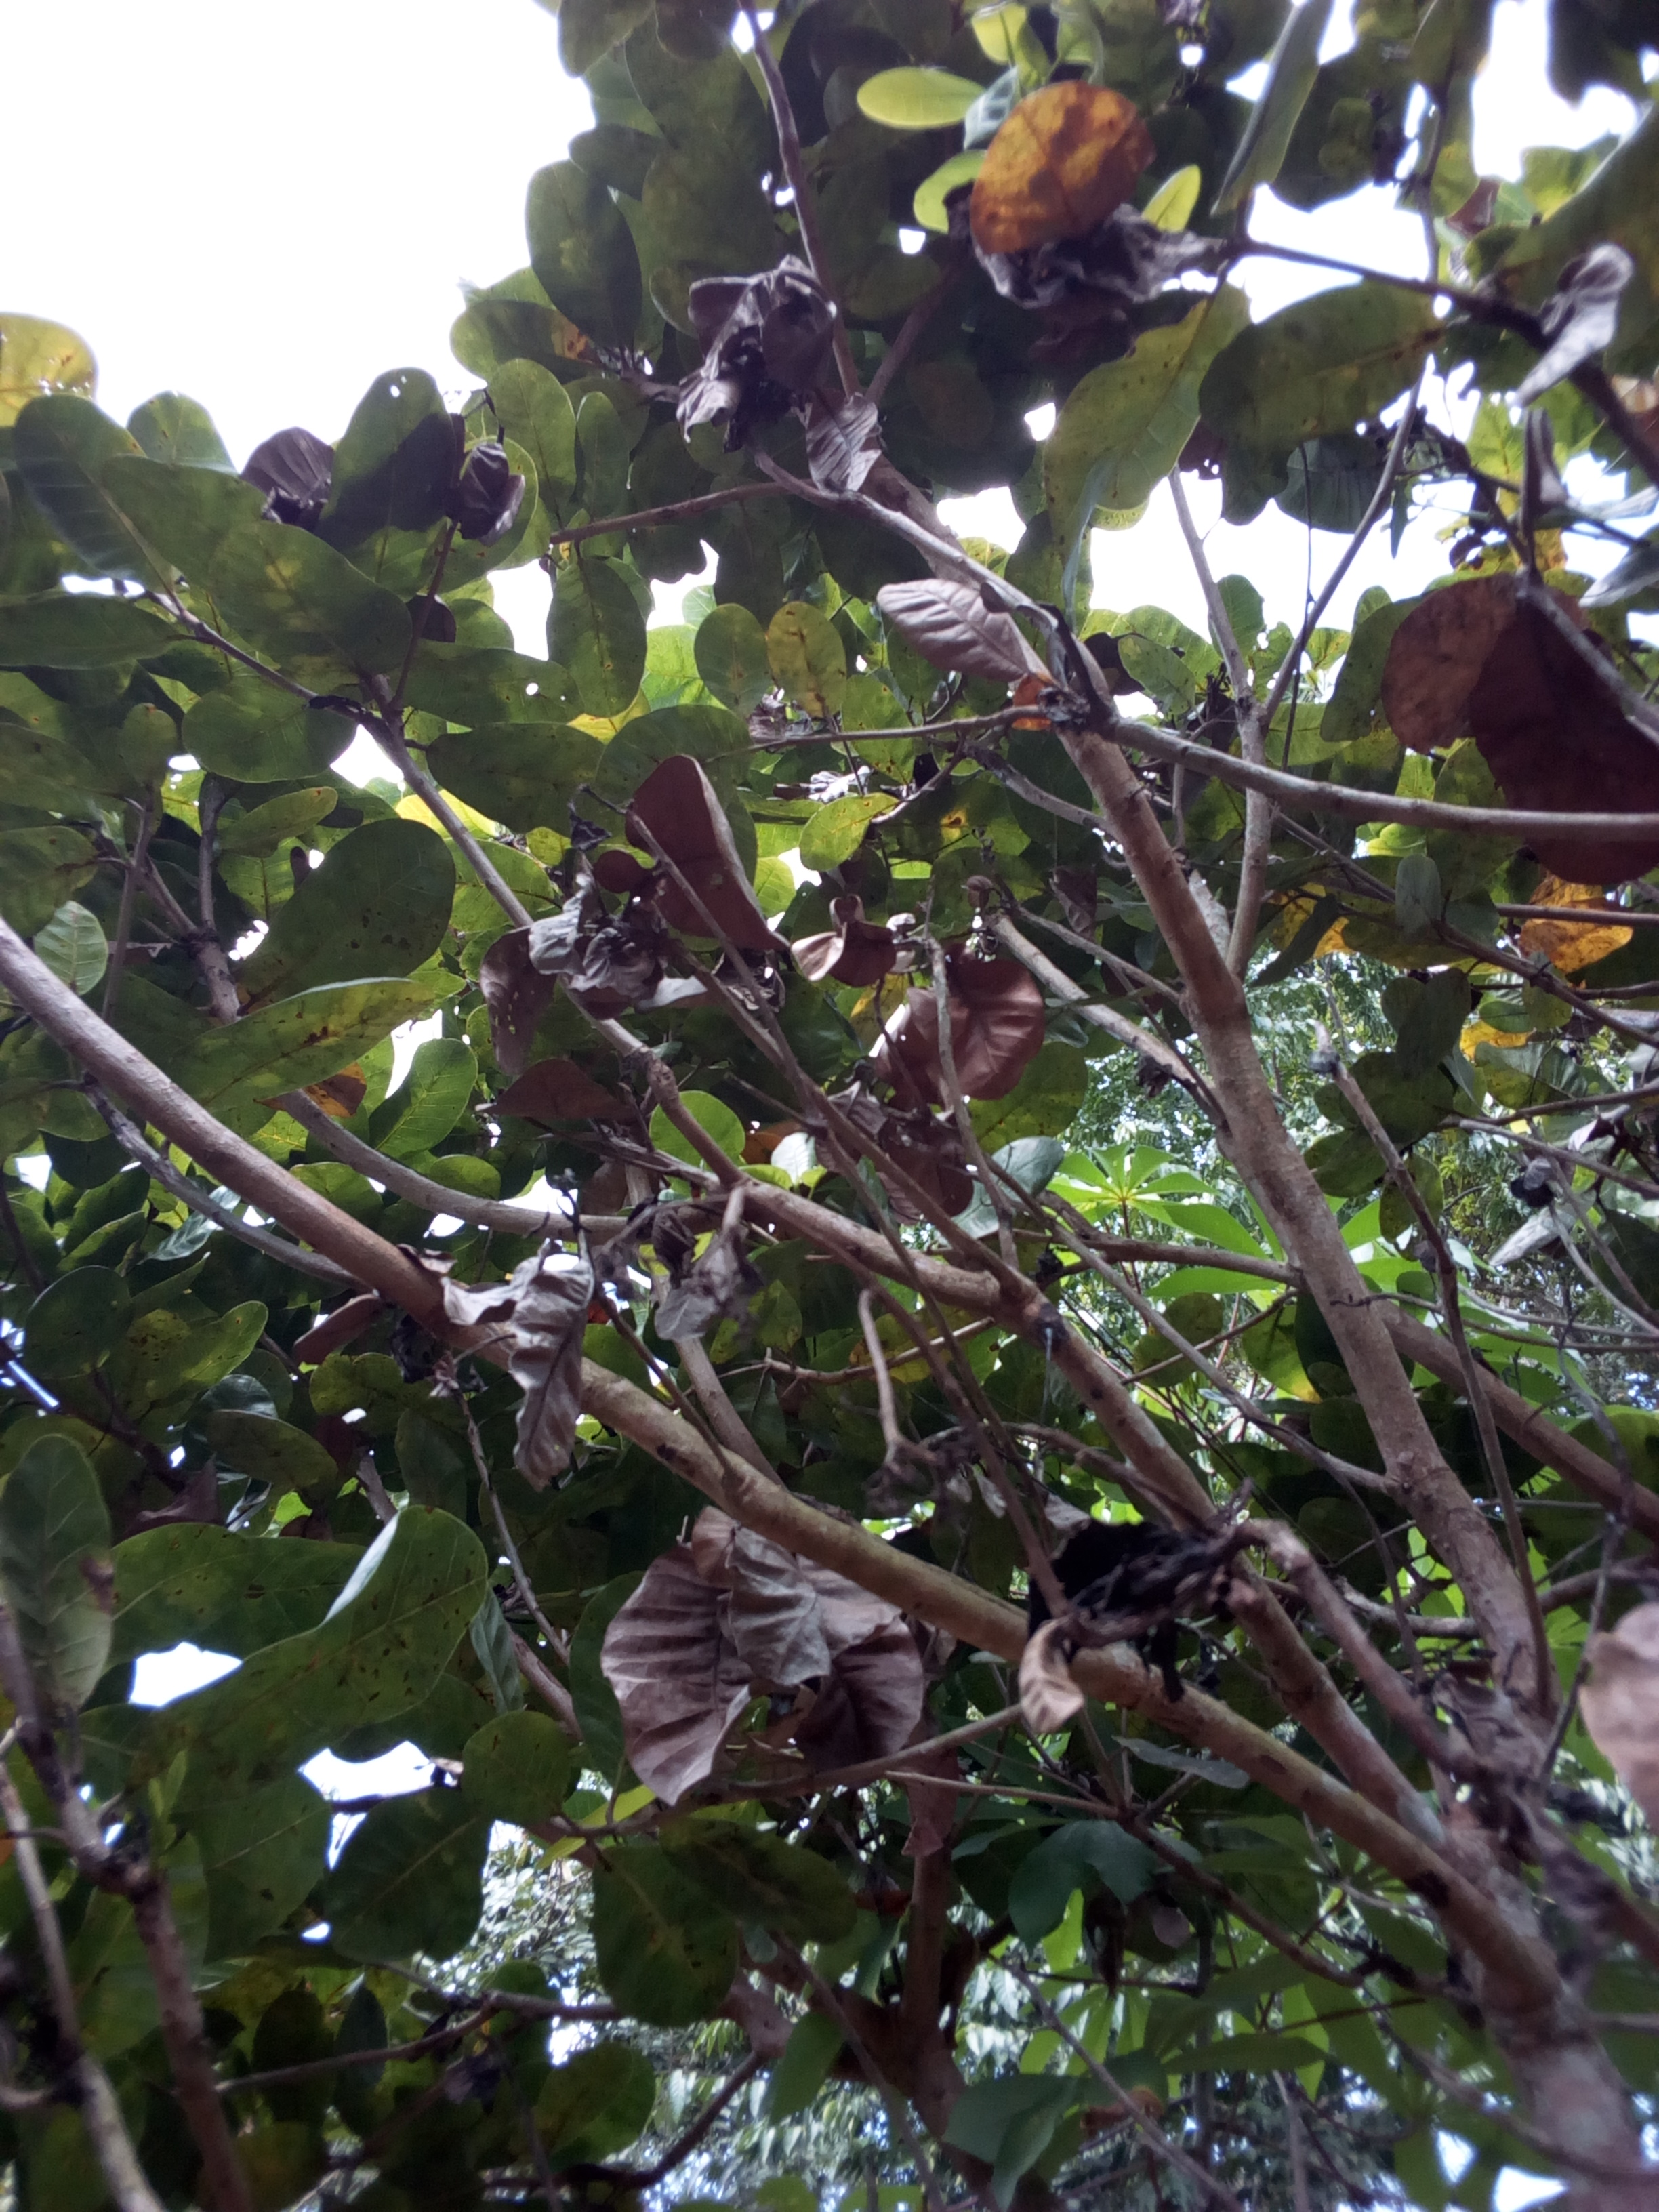Dessèchement des bourgeons: (1042, 1515, 1270, 1689)
